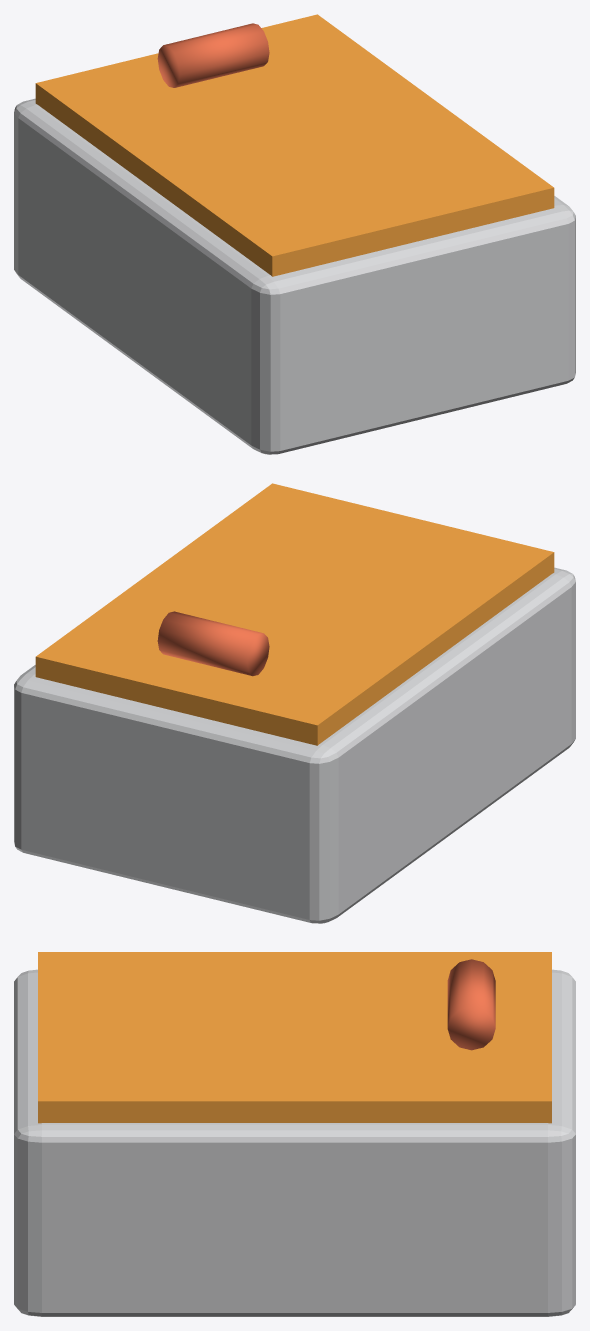
The model's file is chute.glb.
The picture shows the model from 3 angles, top to bottom: view 1: azimuth 30°, elevation 25°; view 2: azimuth 150°, elevation 25°; view 3: azimuth 270°, elevation 25°; orthographic projection. The views are drawn at different scales.
Parts seen in each view (by area): view 1: ChuteBox, ChuteLid, ChuteHandle; view 2: ChuteBox, ChuteLid, ChuteHandle; view 3: ChuteBox, ChuteLid, ChuteHandle.
Boxes of the visible parts, x1,y1,x2,y2 form: ChuteBox: (14,98,575,454); ChuteLid: (35,14,554,276); ChuteHandle: (157,23,269,87); ChuteBox: (14,567,575,923); ChuteLid: (35,483,554,745); ChuteHandle: (157,611,269,676); ChuteBox: (14,969,575,1316); ChuteLid: (38,952,551,1123); ChuteHandle: (447,959,495,1050).
Size of the model in its own units: 0.5 by 0.35 by 0.7.
